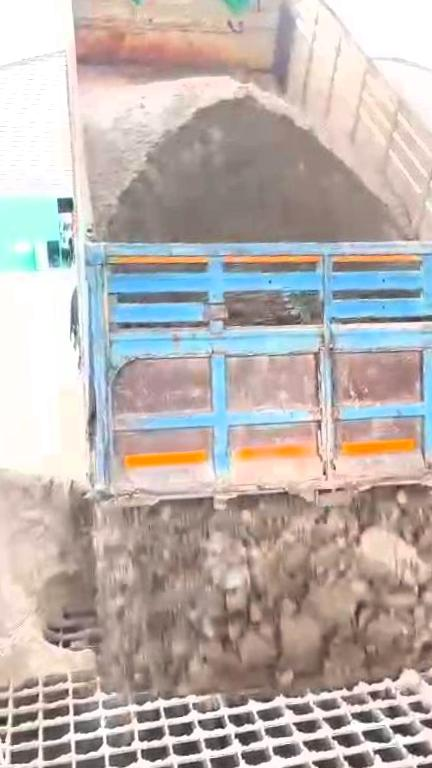sand: (92, 484, 432, 694), (76, 77, 394, 245), (0, 467, 94, 680), (227, 293, 314, 327)
